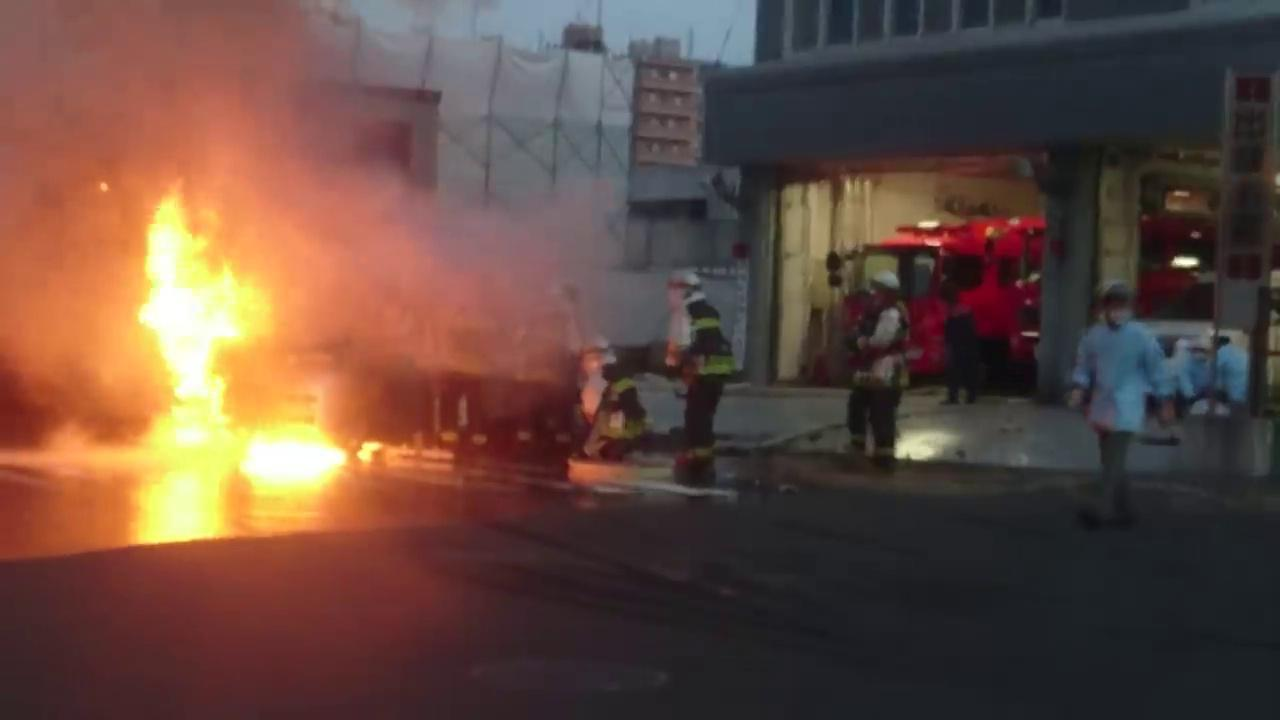Fire: (133, 190, 266, 411), (239, 422, 379, 486)
